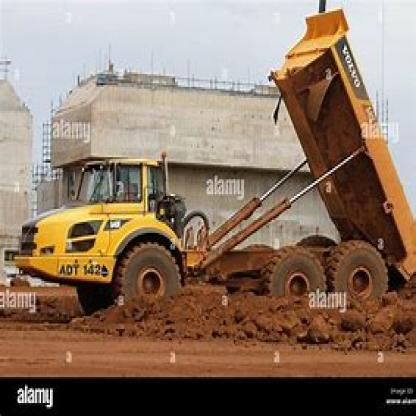dump_truck: (20, 9, 414, 316)
